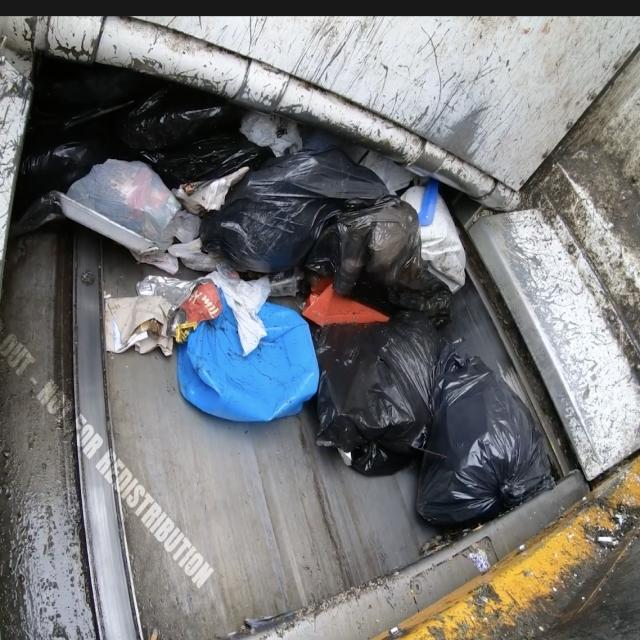bag: (322, 315, 550, 529), (193, 131, 438, 303), (64, 145, 210, 302)
plastic: (156, 274, 326, 436)
